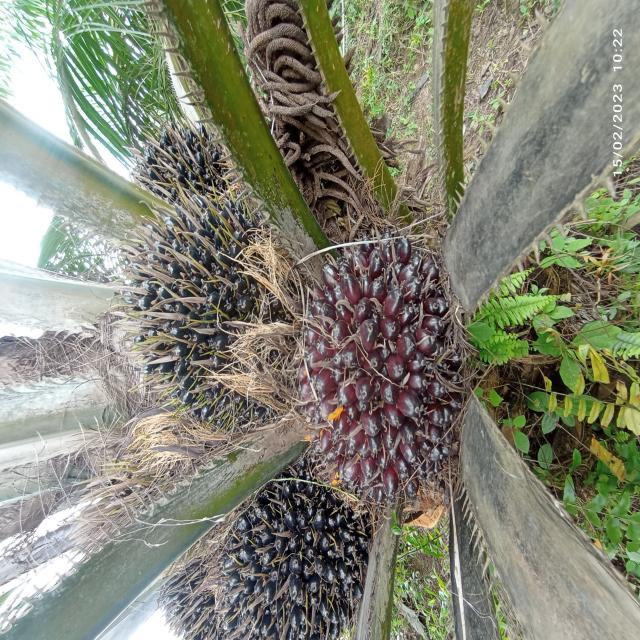fraksi 00: (92, 186, 338, 435), (201, 477, 376, 640), (120, 102, 268, 225)
fraksi 1: (293, 201, 476, 528)
